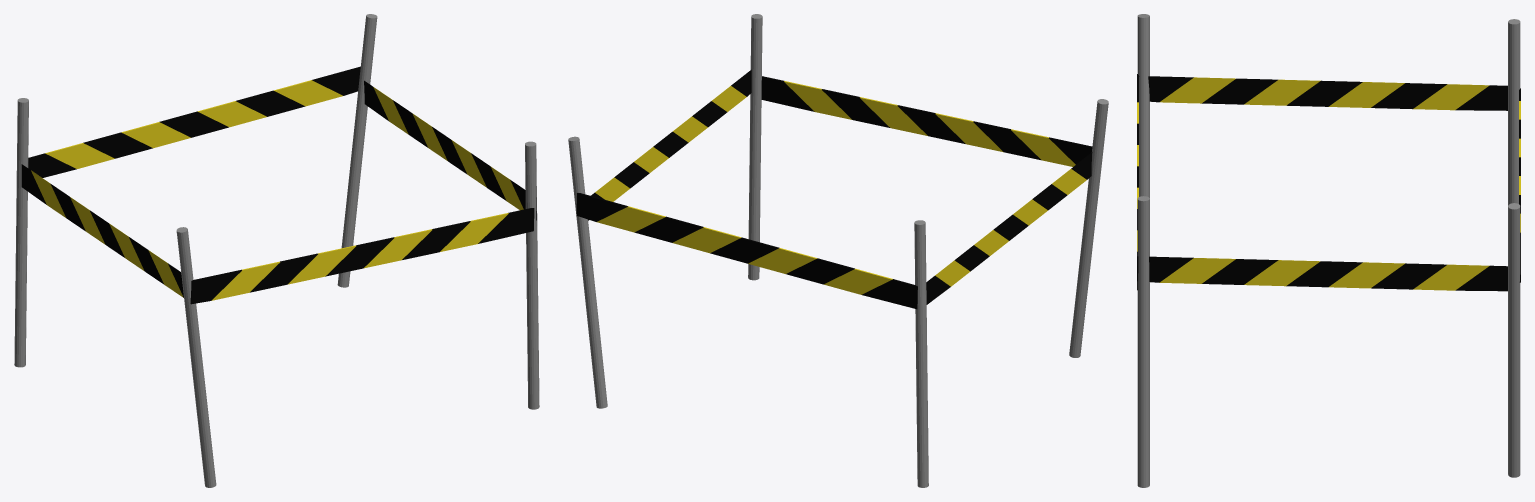
The model's file is Absperrband.fbx.
The picture shows the model from 3 angles, left to right: view 1: azimuth 30°, elevation 25°; view 2: azimuth 150°, elevation 25°; view 3: azimuth 270°, elevation 25°; orthographic projection. The views are drawn at different scales.
Parts seen in each view (by area): view 1: Absperrband; view 2: Absperrband; view 3: Absperrband.
Part boxes in pixels (box(x1,y1,x2,y2)): Absperrband: box(14, 14, 539, 487); Absperrband: box(568, 14, 1108, 487); Absperrband: box(1137, 14, 1520, 487).
Bounding box in the file's own units: 2.03 × 1.38 × 1.68.
